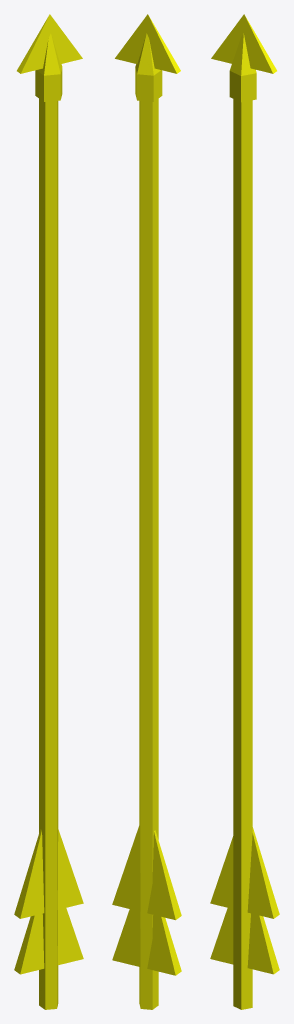
Rendered from _arrow_b_20.glb.
3 renders of one model, left to right at view 1: azimuth 30°, elevation 25°; view 2: azimuth 150°, elevation 25°; view 3: azimuth 330°, elevation 25°, orthographic.
Visible parts, largest first — view 1: arrow_b_20; view 2: arrow_b_20; view 3: arrow_b_20.
Part boxes in pixels (bbox=[...]): arrow_b_20: bbox=[14, 14, 83, 1009]; arrow_b_20: bbox=[112, 14, 181, 1009]; arrow_b_20: bbox=[210, 14, 279, 1009].
Bounding box in the file's own units: 1242 × 18504 × 468.
